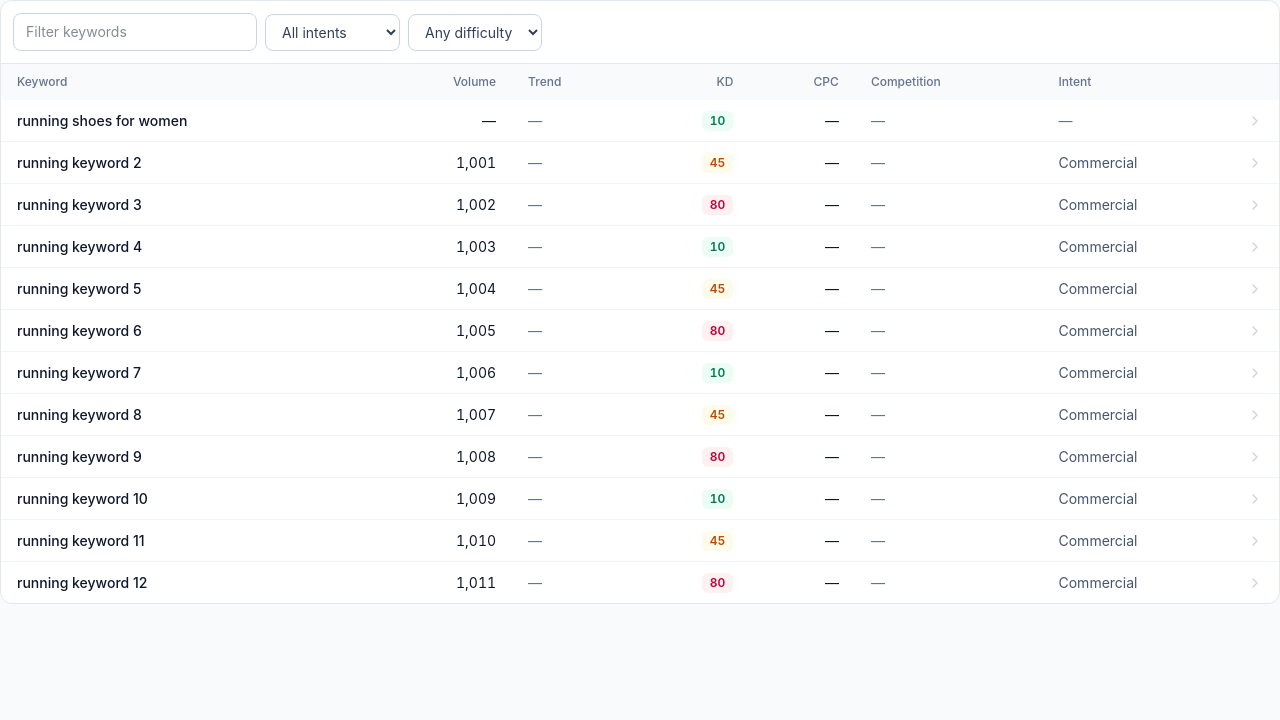
Test: keyword table › filters long lists and explains when nothing matches
In the search field labelled "Filter keywords": (135, 32) top-left (13, 13), bottom-right (257, 51), type "WOMEN"
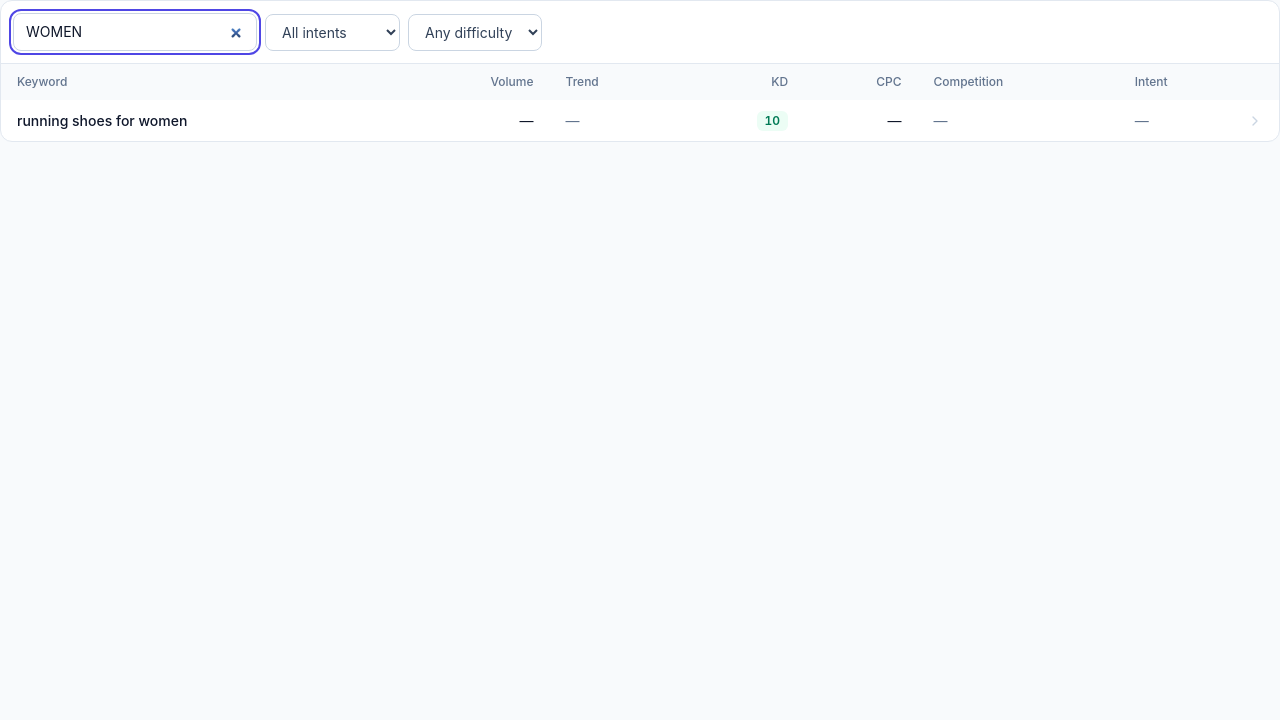
Check: the number of rows is 2, box top-left (1, 64), bottom-right (1279, 100); top-left (1, 100), bottom-right (1279, 141)
Replace the text in the search field named "Filter keywords" with "zzz": (135, 32) top-left (13, 13), bottom-right (257, 51)
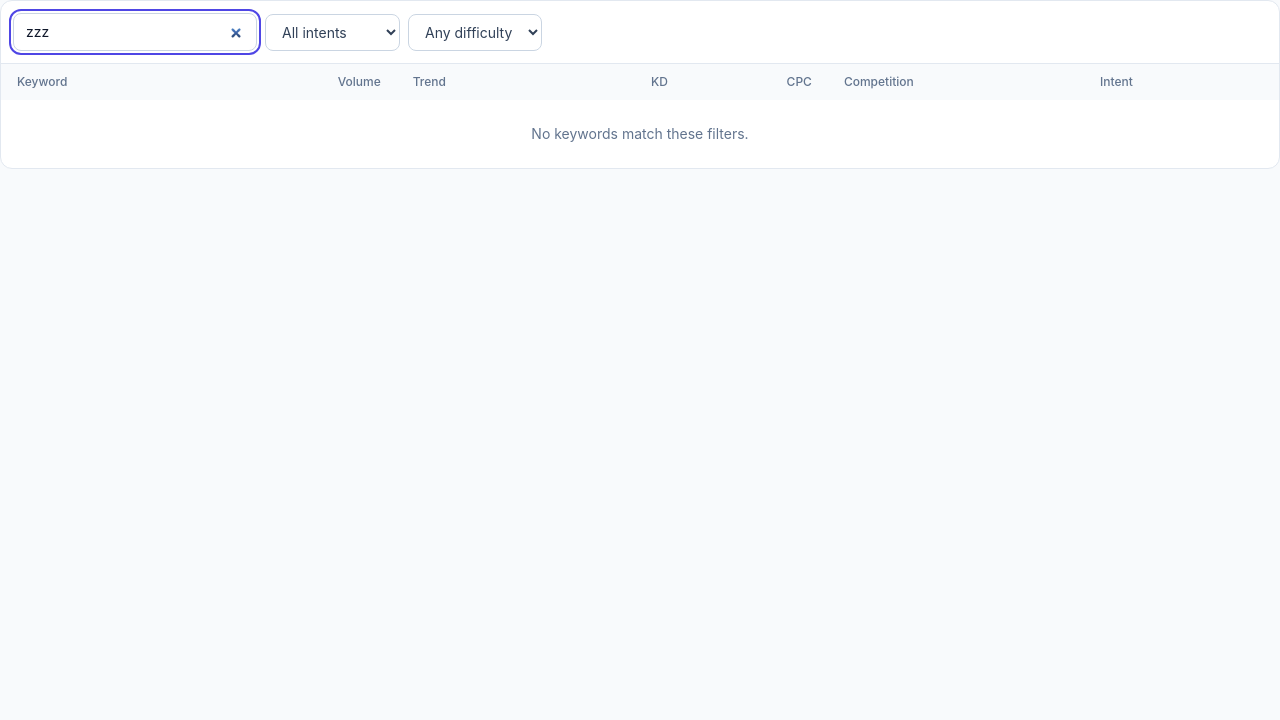
Check: the text "No keywords match these filters." is shown, box top-left (531, 125), bottom-right (749, 142)
